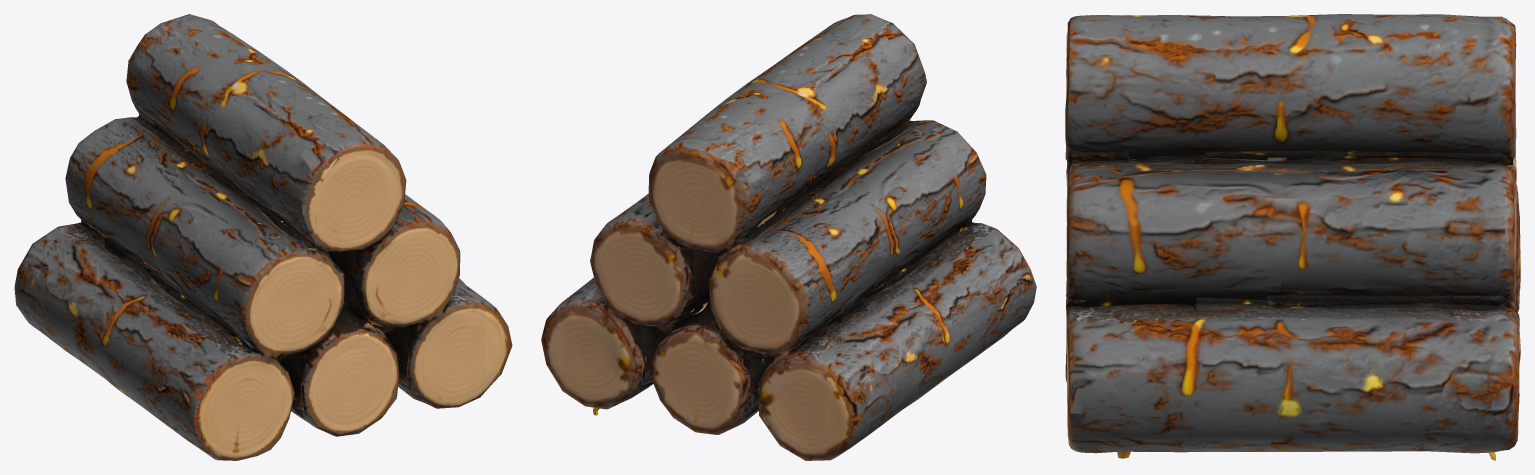
Rendered from madera.glb.
3 renders of one model, left to right at view 1: azimuth 30°, elevation 25°; view 2: azimuth 150°, elevation 25°; view 3: azimuth 270°, elevation 25°, orthographic. The views are drawn at different scales.
Visible parts, largest first — view 1: Mesh0; view 2: Mesh0; view 3: Mesh0.
Part boxes in pixels (x1,y1,x2,y2): Mesh0: (14,14,512,460); Mesh0: (541,14,1036,460); Mesh0: (1065,14,1520,460).
Bounding box in the file's own units: 1.91 × 1.71 × 1.89.
Materials: 1 (1 with a texture image).
